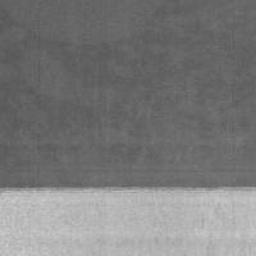Welding line: (0, 186, 256, 195)
